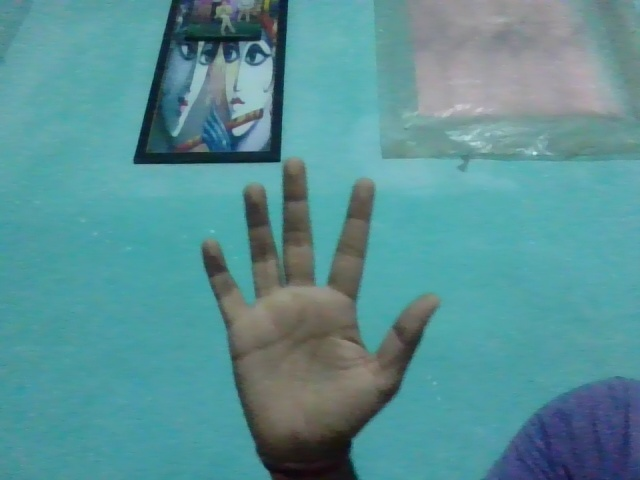hello: (167, 158, 446, 443)
